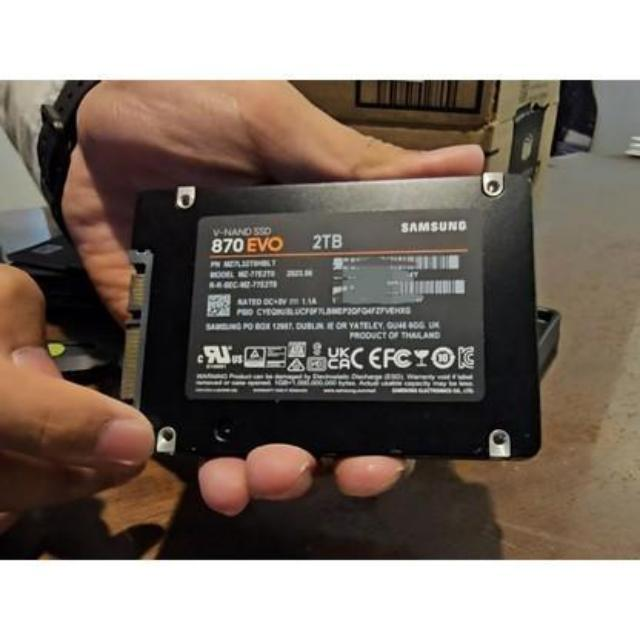DISK: (111, 182, 546, 460)
